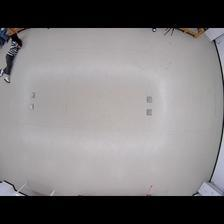fall: (1, 33, 24, 83)
